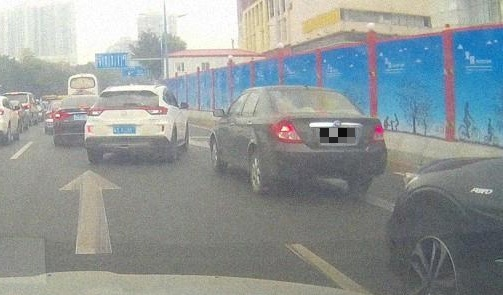L_light: (271, 118, 302, 143), (87, 106, 104, 116)
R_light: (371, 122, 385, 143), (145, 106, 168, 114)
T_light: (303, 91, 317, 95), (123, 90, 136, 93)
day-left: (267, 85, 388, 196)
day-no: (85, 85, 170, 162)
plate_1: (320, 128, 355, 143)
